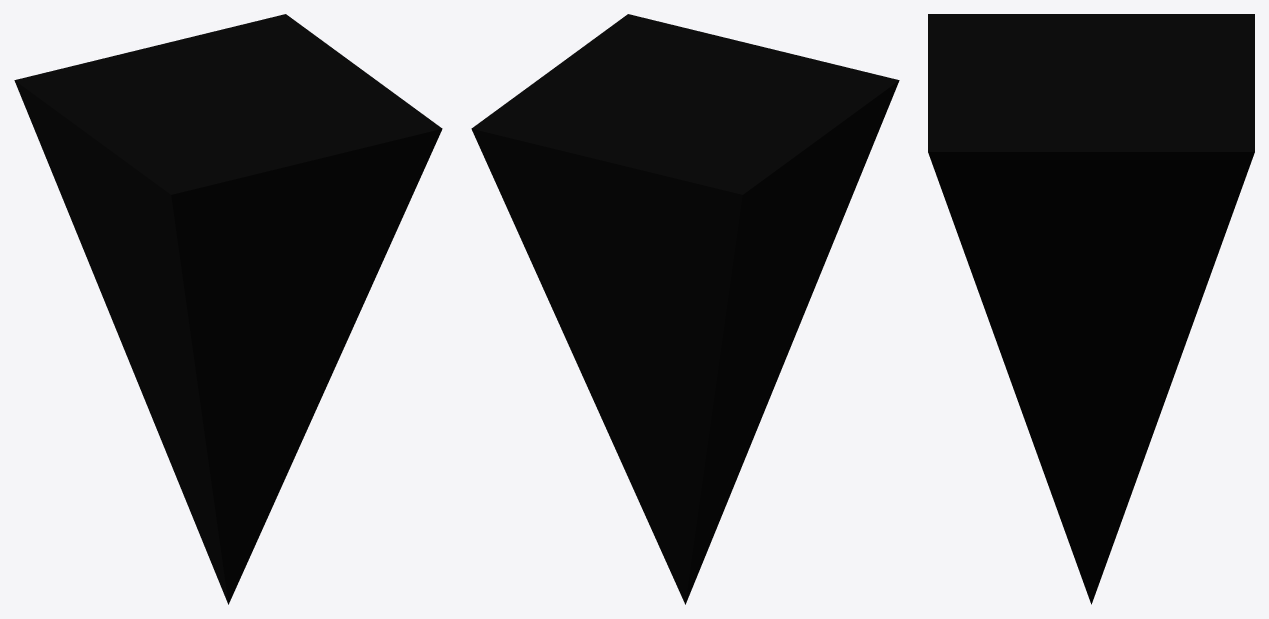
The model's file is Arrow.fbx.
The picture shows the model from 3 angles, left to right: view 1: azimuth 30°, elevation 25°; view 2: azimuth 150°, elevation 25°; view 3: azimuth 270°, elevation 25°; orthographic projection. The views are drawn at different scales.
Visible parts, largest first — view 1: root; view 2: root; view 3: root.
Part boxes in pixels (left/top/right/bottom): root: left=14, top=14, right=442, bottom=604; root: left=471, top=14, right=899, bottom=604; root: left=928, top=14, right=1254, bottom=604.
Size of the model in its own units: 0.2548 by 0.4488 by 0.2548.
1 material, 1 textured.
